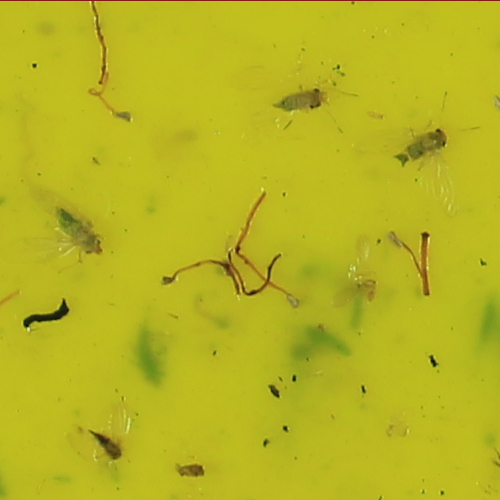Glycaspis: (57, 209, 106, 259), (404, 127, 453, 159), (273, 85, 331, 111)
psylla: (90, 427, 123, 464)
